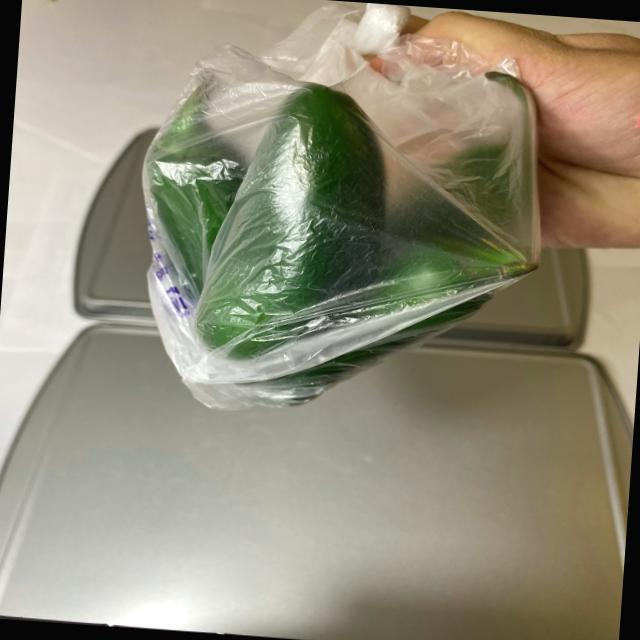chilli: (116, 31, 568, 432)
